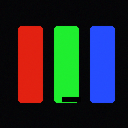3 line_h: (62, 97, 80, 101)
